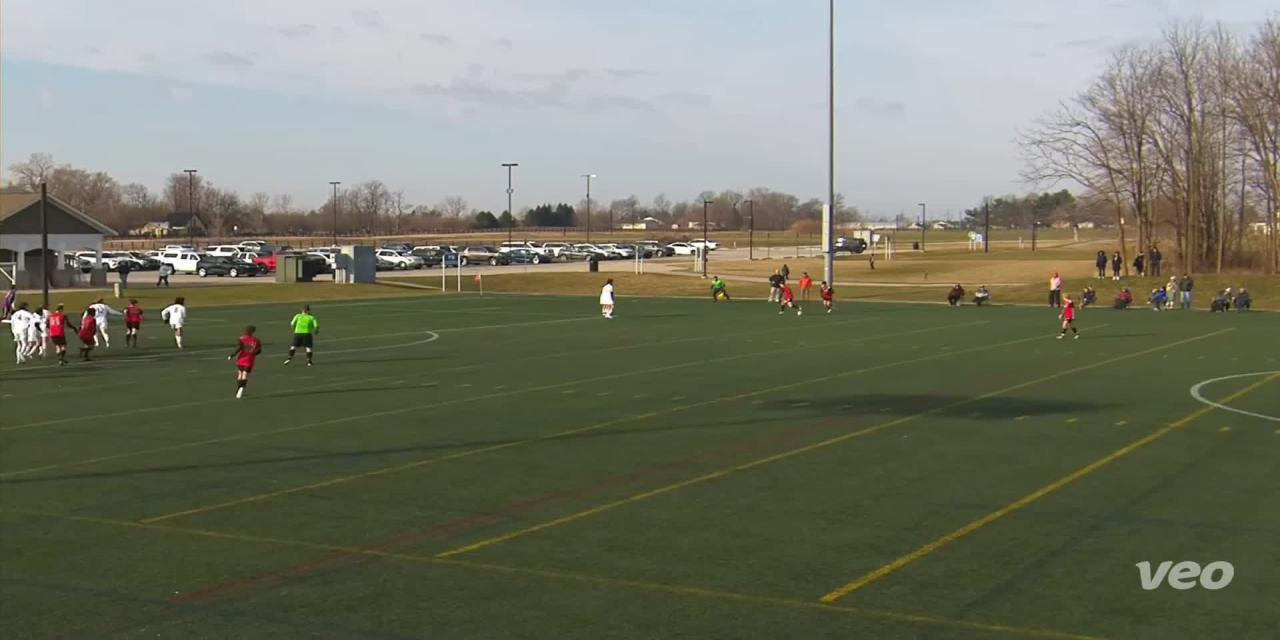sports ball: (793, 307, 806, 319)
